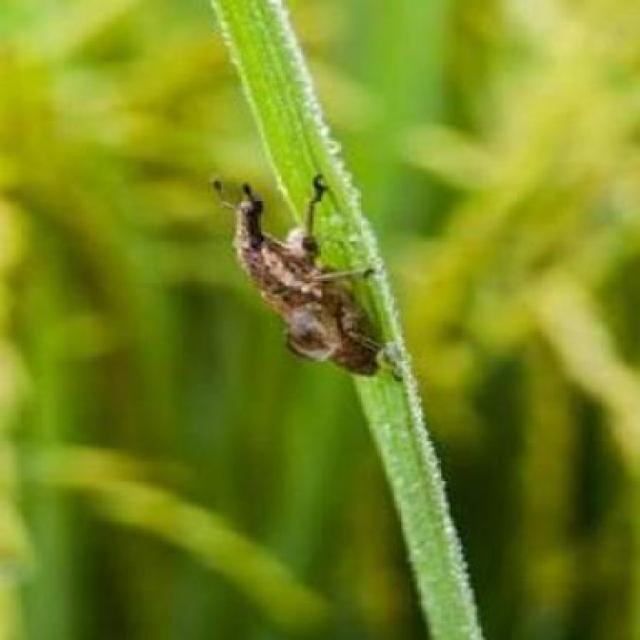rice-bug: (220, 170, 423, 379)
